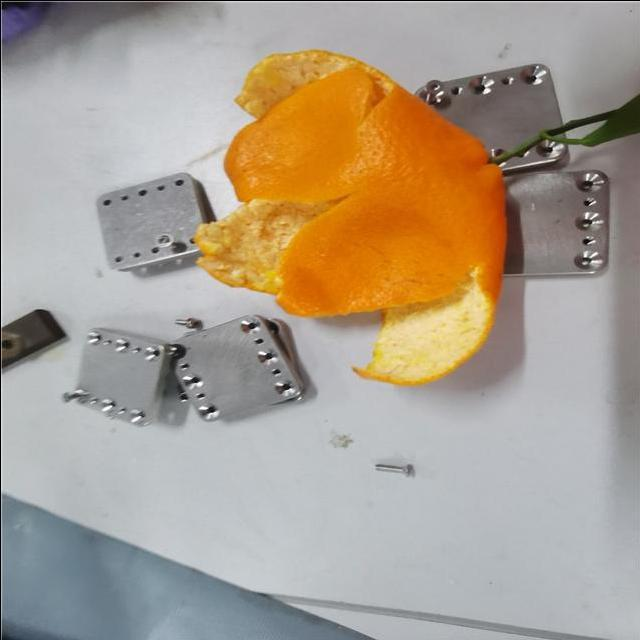orange peel: (193, 48, 508, 384)
